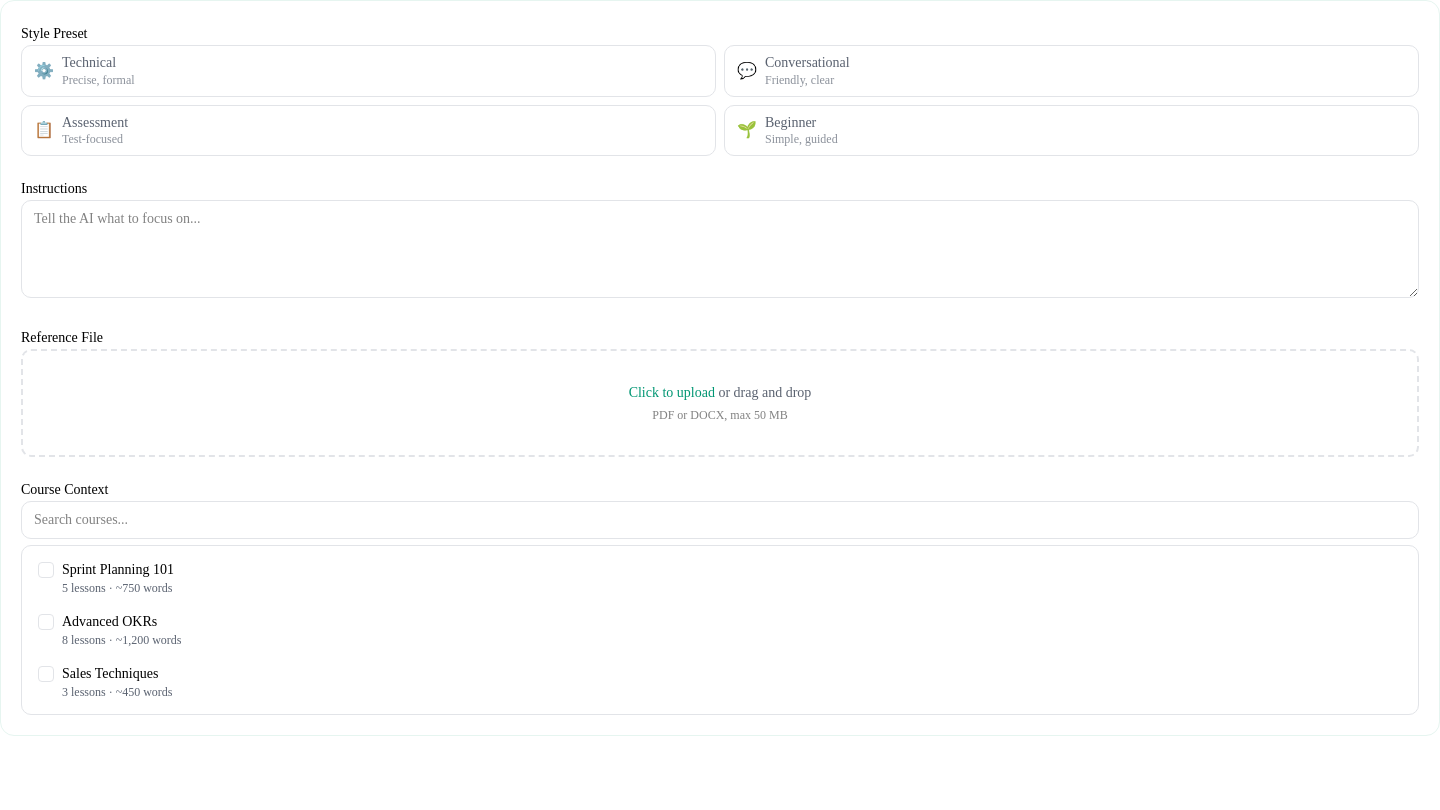
it: AiContextPanel › Course Picker › shows empty state when no courses match search
Expected: the text "Sprint Planning 101" is shown, x1=62 y1=562 x2=174 y2=577
Type "nonexistent query xyz" into the field with test id "course-search".
click(720, 520); type("nonexistent query xyz")  # box x1=21 y1=501 x2=1419 y2=539
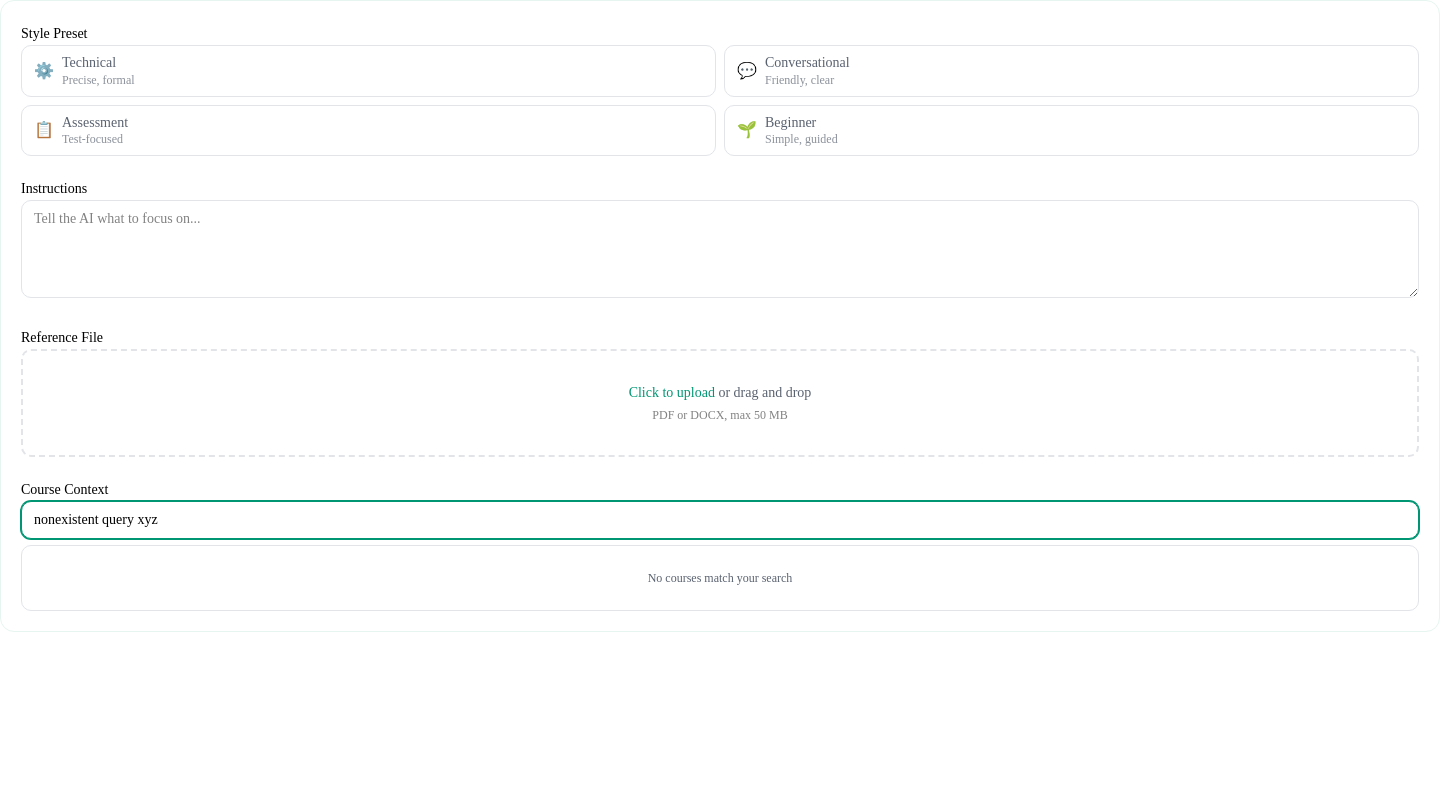
Now the text "No courses match your search" is shown, box x1=648 y1=571 x2=792 y2=585
